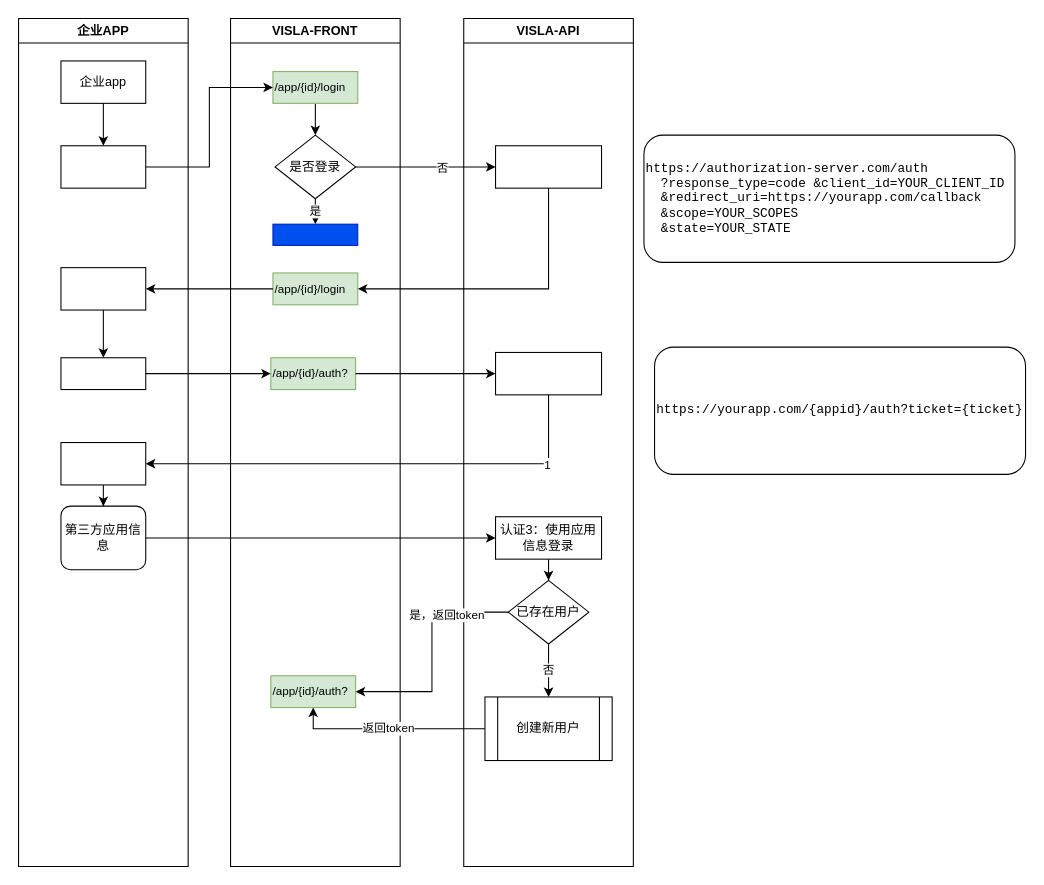
Some shapes in this 1044 by 885 pixel diagram are drawn without their labels. Each missing label, with the centre of its shape:
CAS服务: [103,463]
点击Visla: [103,166]
用户登录: [103,373]
统一认证页面: [103,288]
认证1：获取redirect-url: [548,166]
认证2：获取用户信息: [548,373]
首页: [315,234]
